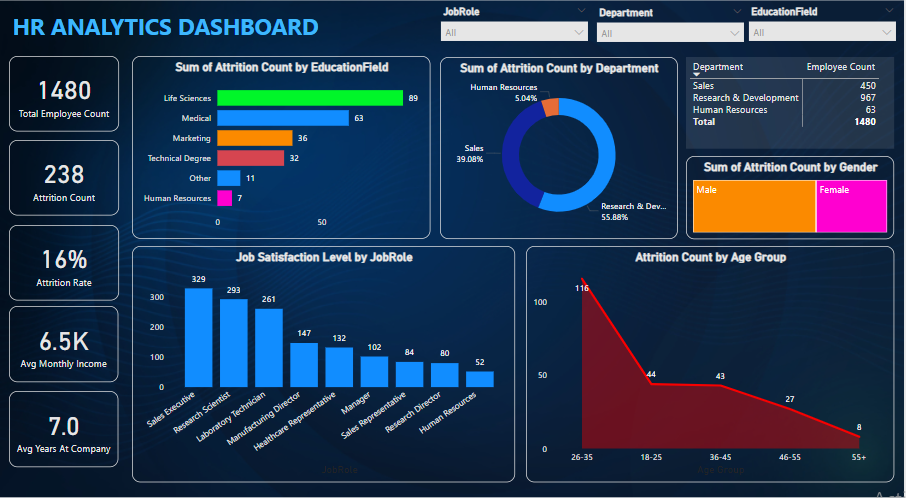

The page's visual inventory and layout, read from the dashboard file:
{"tool":"powerbi","page":{"name":"Page 1","canvas":[1280,720],"ordinal":0},"visuals":[{"type":"donutChart","fields":{"Category":["HR_Analytics.Department"],"Y":["Sum(HR_Analytics.Attrition Count)"]},"box":[623.3,85,336.7,258.3],"z":0},{"type":"barChart","fields":{"Category":["HR_Analytics.EducationField"],"Y":["Sum(HR_Analytics.Attrition Count)"]},"box":[187.1,84.3,422.9,258.6],"z":1000},{"type":"treemap","fields":{"Group":["HR_Analytics.Gender"],"Values":["Sum(HR_Analytics.Attrition Count)"]},"box":[971.7,225,295,118.3],"z":2000},{"type":"card","fields":{"Values":["Sum(HR_Analytics.Attrition Count)"]},"box":[12.9,202.9,155.7,107.1],"z":3000},{"type":"card","fields":{"Values":["HR_Analytics.Attrition Rate"]},"box":[12.9,322.9,155.7,107.1],"z":4000},{"type":"card","fields":{"Values":["Sum(HR_Analytics.EmployeeCount)"]},"box":[12.9,84.3,155.7,107.1],"z":5000},{"type":"card","fields":{"Values":["Avg(HR_Analytics.MonthlyIncome)"]},"box":[13.3,438.3,155,108.3],"z":6000},{"type":"columnChart","fields":{"Category":["HR_Analytics.JobRole"],"Y":["CountNonNull(HR_Analytics.JobSatisfaction)"]},"box":[186.7,353.3,543.3,335],"z":7000},{"type":"card","fields":{"Values":["Avg(HR_Analytics.YearsAtCompany)"]},"box":[13.3,558.3,155,108.3],"z":8000},{"type":"slicer","fields":{"Values":["HR_Analytics.JobRole"]},"box":[615,6.7,228.3,66.7],"z":9000},{"type":"pivotTable","fields":{"Rows":["HR_Analytics.Department"],"Values":["Sum(HR_Analytics.EmployeeCount)"]},"box":[971.7,85,295,130],"z":10000},{"type":"areaChart","fields":{"Category":["HR_Analytics.AgeGroup"],"Y":["Sum(HR_Analytics.Attrition Count)"]},"box":[745,353.3,521.7,335],"z":11000},{"type":"slicer","fields":{"Values":["HR_Analytics.Department"]},"box":[836,8,228,66],"z":12000},{"type":"slicer","fields":{"Values":["HR_Analytics.EducationField"]},"box":[1052,7,228,66],"z":13000},{"type":"textbox","box":[12.9,14.3,461.4,52.9],"z":14000}]}

Visuals, with their boxes in screenshot pixels (x1, y1, x2, y2), scaled from the page's 1280x720 canvas onto the 906x498 screenshot:
donutChart - HR_Analytics.Department x Sum(HR_Analytics.Attrition Count): rect(441, 59, 680, 237)
barChart - HR_Analytics.EducationField x Sum(HR_Analytics.Attrition Count): rect(132, 58, 432, 237)
treemap - HR_Analytics.Gender x Sum(HR_Analytics.Attrition Count): rect(688, 156, 897, 237)
card - Sum(HR_Analytics.Attrition Count): rect(9, 140, 119, 214)
card - HR_Analytics.Attrition Rate: rect(9, 223, 119, 297)
card - Sum(HR_Analytics.EmployeeCount): rect(9, 58, 119, 132)
card - Avg(HR_Analytics.MonthlyIncome): rect(9, 303, 119, 378)
columnChart - HR_Analytics.JobRole x CountNonNull(HR_Analytics.JobSatisfaction): rect(132, 244, 517, 476)
card - Avg(HR_Analytics.YearsAtCompany): rect(9, 386, 119, 461)
slicer - HR_Analytics.JobRole: rect(435, 5, 597, 51)
pivotTable - HR_Analytics.Department x Sum(HR_Analytics.EmployeeCount): rect(688, 59, 897, 149)
areaChart - HR_Analytics.AgeGroup x Sum(HR_Analytics.Attrition Count): rect(527, 244, 897, 476)
slicer - HR_Analytics.Department: rect(592, 6, 753, 51)
slicer - HR_Analytics.EducationField: rect(745, 5, 905, 50)
textbox: rect(9, 10, 336, 46)
